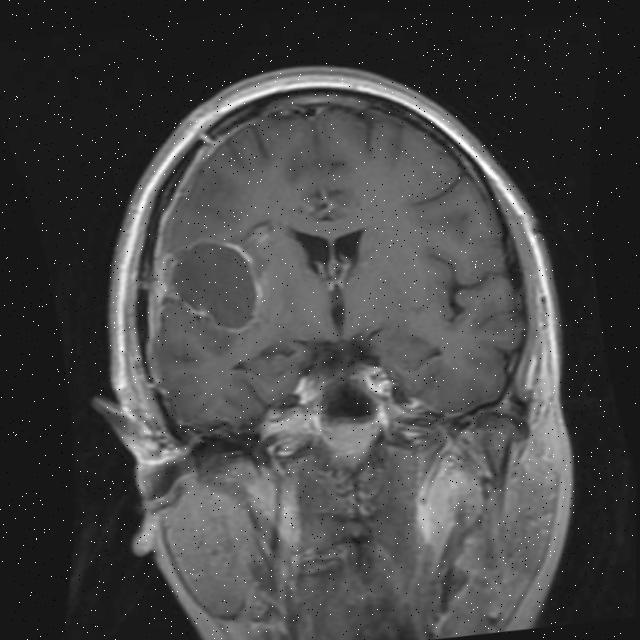Glioma: (157, 229, 268, 343)
Pituitary: (321, 410, 385, 473)
